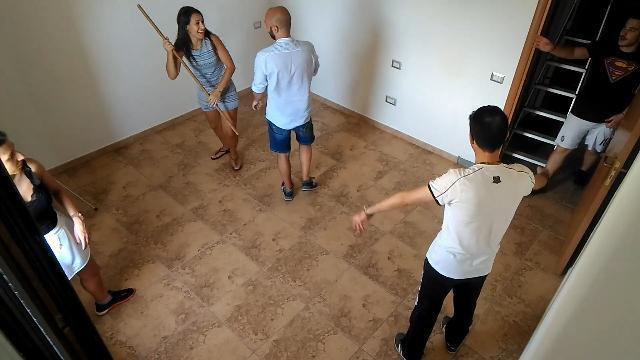non-violence: (349, 107, 551, 360), (0, 114, 140, 318), (537, 7, 637, 182)
violence: (139, 0, 321, 202)
